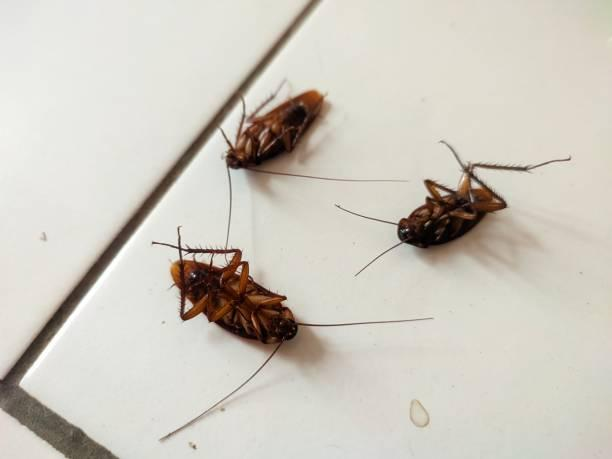cockroach: (60, 216, 450, 459), (132, 57, 402, 235), (337, 116, 582, 302)
